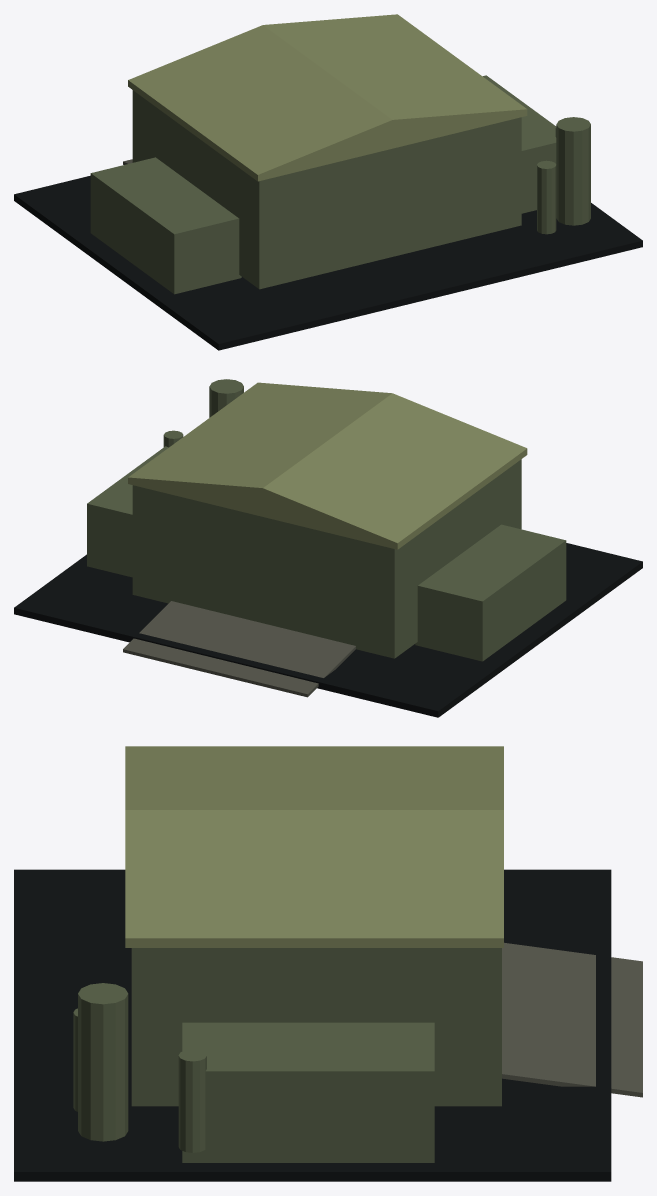
File: Bastion_WarFactoryCMV2_LOD2_BaseArmor.obj
3 views of the same model, one above another, from view 1: azimuth 30°, elevation 25°; view 2: azimuth 150°, elevation 25°; view 3: azimuth 270°, elevation 25° (orthographic). The views are drawn at different scales.
Visible parts, largest first — view 1: lod2_roof_2, lod2_main_1, lod2_base_0, lod2_left_4, lod2_stack_6, lod2_right_5, lod2_stack_7; view 2: lod2_roof_2, lod2_main_1, lod2_base_0, lod2_left_4, lod2_ramp_3, lod2_right_5, lod2_stack_6; view 3: lod2_roof_2, lod2_base_0, lod2_main_1, lod2_right_5, lod2_ramp_3, lod2_stack_6, lod2_stack_8.
Boxes of the visible parts, x1=… form: lod2_roof_2: x1=128, y1=14, x2=527, y2=181; lod2_main_1: x1=132, y1=90, x2=521, y2=289; lod2_base_0: x1=14, y1=175, x2=642, y2=350; lod2_left_4: x1=90, y1=157, x2=241, y2=294; lod2_stack_6: x1=556, y1=117, x2=590, y2=225; lod2_right_5: x1=483, y1=75, x2=556, y2=213; lod2_stack_7: x1=537, y1=160, x2=556, y2=234; lod2_roof_2: x1=128, y1=382, x2=527, y2=549; lod2_main_1: x1=132, y1=459, x2=521, y2=658; lod2_base_0: x1=14, y1=543, x2=642, y2=717; lod2_left_4: x1=415, y1=524, x2=566, y2=661; lod2_ramp_3: x1=123, y1=601, x2=355, y2=697; lod2_right_5: x1=87, y1=446, x2=168, y2=577; lod2_stack_6: x1=209, y1=379, x2=243, y2=417; lod2_roof_2: x1=125, y1=746, x2=503, y2=947; lod2_base_0: x1=14, y1=869, x2=611, y2=1181; lod2_main_1: x1=131, y1=948, x2=501, y2=1106; lod2_right_5: x1=182, y1=1022, x2=434, y2=1162; lod2_ramp_3: x1=502, y1=942, x2=642, y2=1097; lod2_stack_6: x1=78, y1=983, x2=128, y2=1141; lod2_stack_8: x1=178, y1=1049, x2=206, y2=1152.
Size of the model in its own units: 17 by 5.82 by 14.95.
4 materials, 4 textured.
